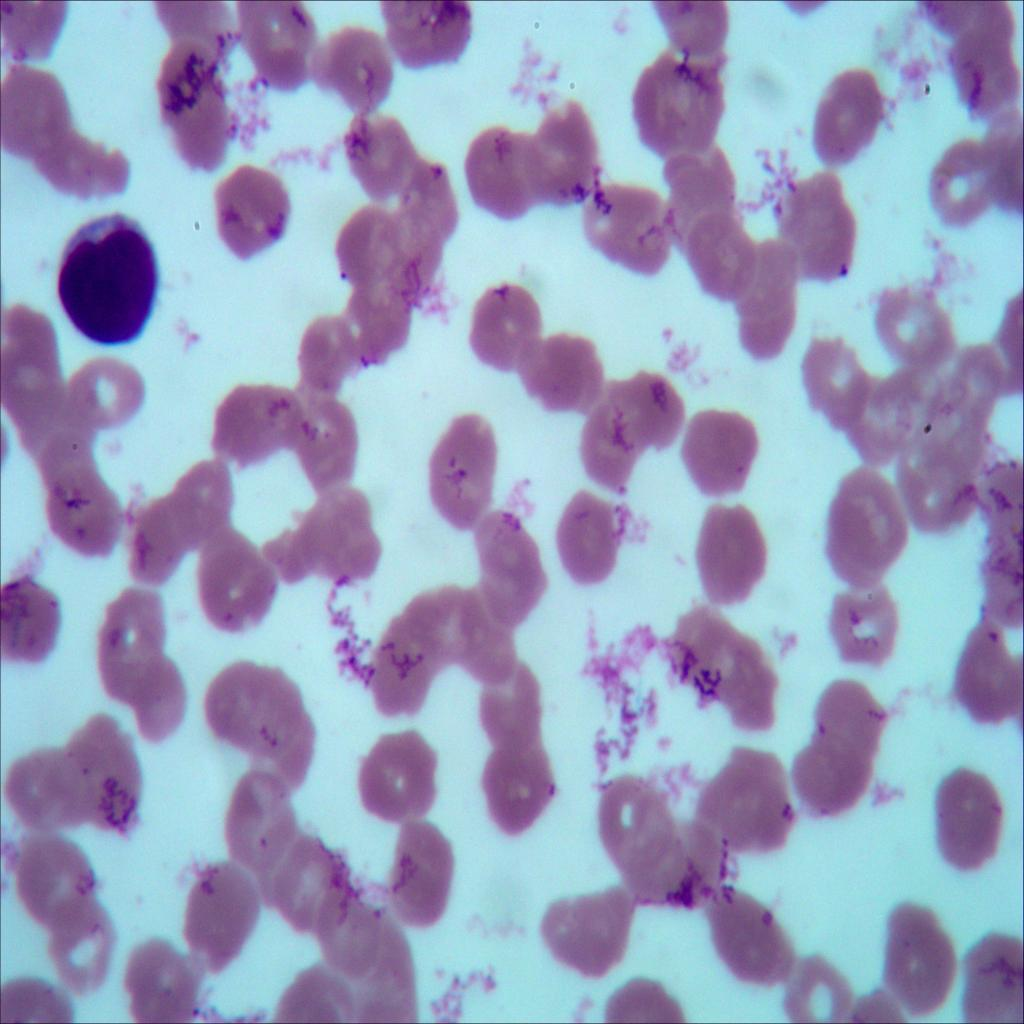Limfoblast: (42, 194, 170, 362)
